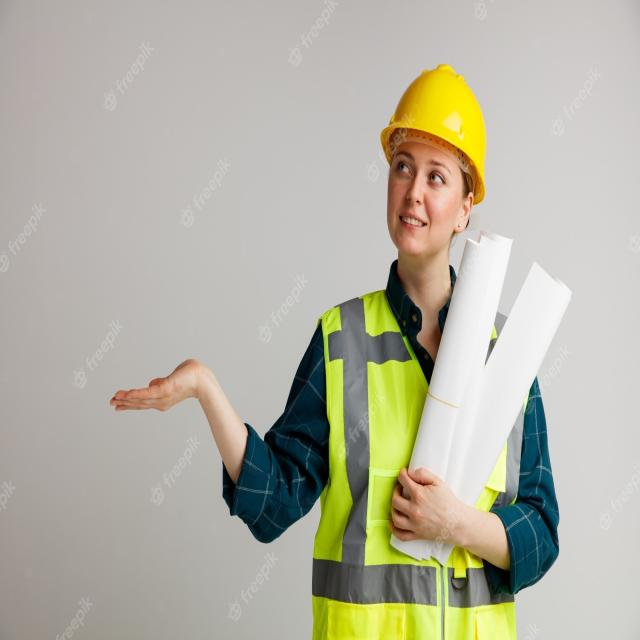helmet: (383, 57, 498, 214)
no-goggles: (383, 140, 463, 210)
vest: (305, 284, 526, 638)
